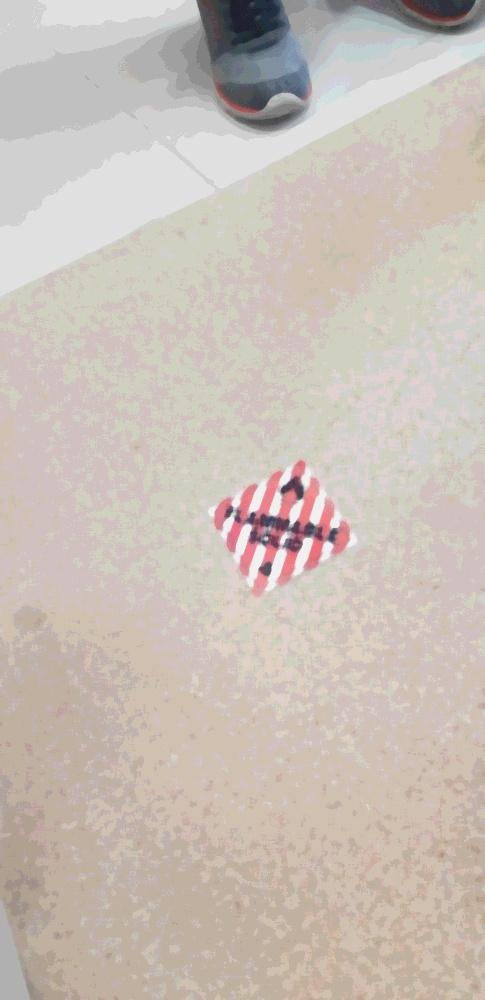flammable-solid: (200, 459, 363, 600)
